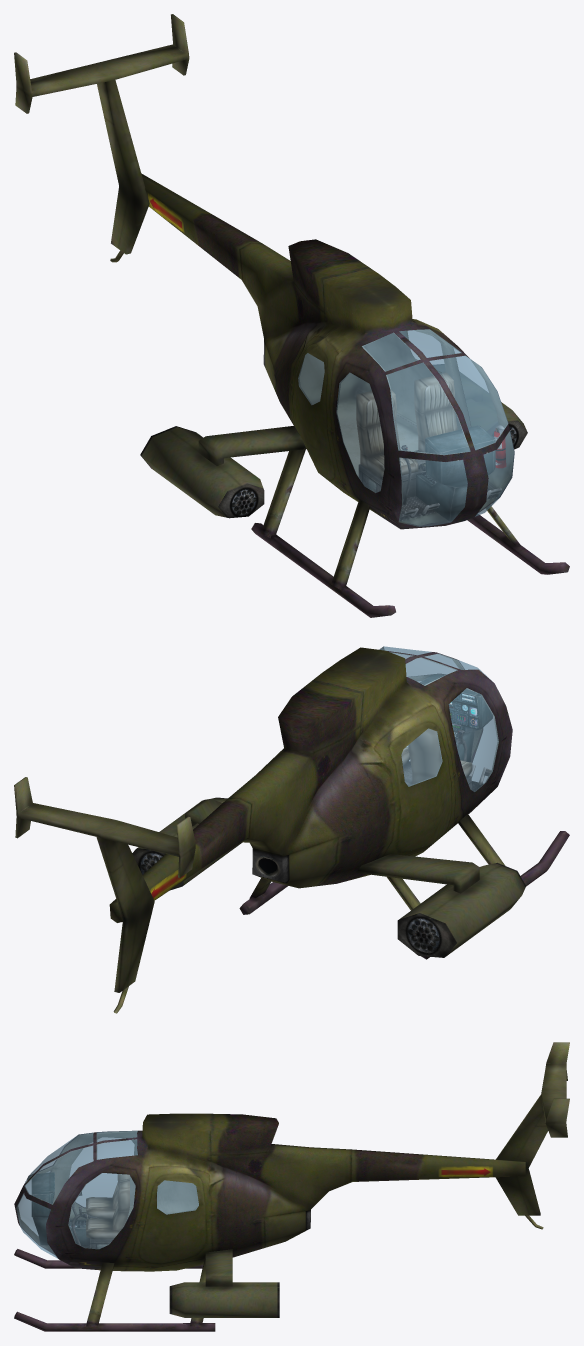
Rendered from player_helicopter_body.glb.
3 views of the same model, one above another, from view 1: azimuth 30°, elevation 25°; view 2: azimuth 150°, elevation 25°; view 3: azimuth 270°, elevation 25° (orthographic). The views are drawn at different scales.
Visible parts, largest first — view 1: MD_501:Helicopter; view 2: MD_501:Helicopter; view 3: MD_501:Helicopter.
Boxes of the visible parts, <box> form: MD_501:Helicopter: <box>14,14,569,617</box>; MD_501:Helicopter: <box>14,646,569,1013</box>; MD_501:Helicopter: <box>14,1042,569,1331</box>.
Size of what is drawn, in the model's own units: 3.82 by 3.49 by 7.79.
Materials: 3 (2 with a texture image).
